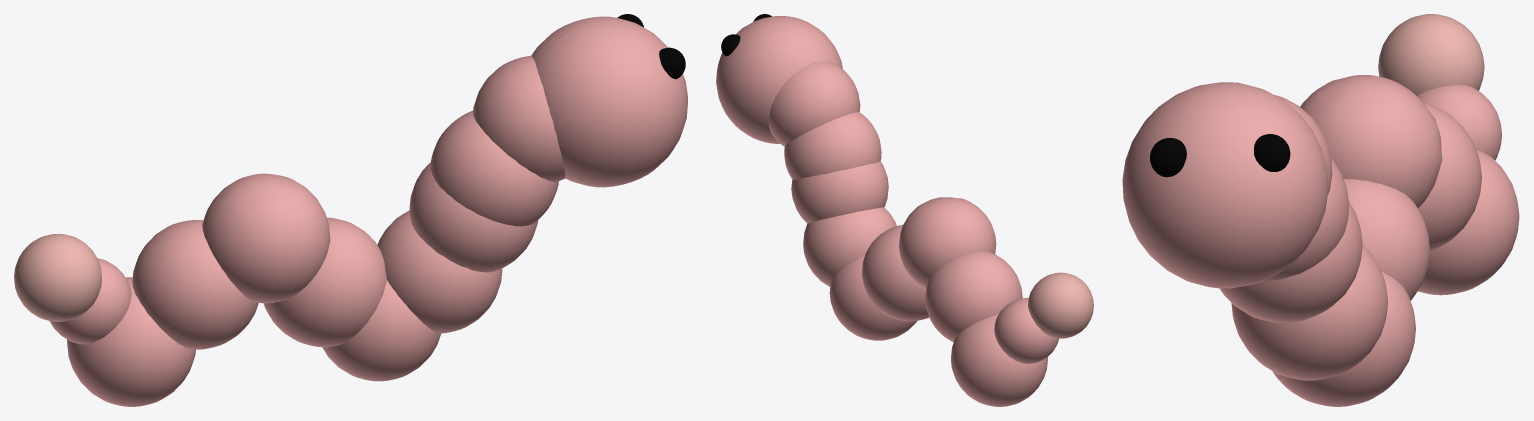
Rendered from worm.fbx.
3 renders of one model, left to right at view 1: azimuth 30°, elevation 25°; view 2: azimuth 150°, elevation 25°; view 3: azimuth 270°, elevation 25°, orthographic. The views are drawn at different scales.
Parts seen in each view (by area): view 1: Sphere.006, Sphere; view 2: Sphere.006; view 3: Sphere.006, Sphere, Sphere.001.
Boxes of the visible parts, x1,y1,x2,y2 form: Sphere.006: [14, 16, 687, 406]; Sphere: [659, 47, 685, 79]; Sphere.006: [716, 16, 1093, 406]; Sphere.006: [1122, 14, 1519, 406]; Sphere: [1150, 138, 1186, 177]; Sphere.001: [1253, 134, 1290, 171].
Size of the model in its own units: 237 by 277 by 475.
